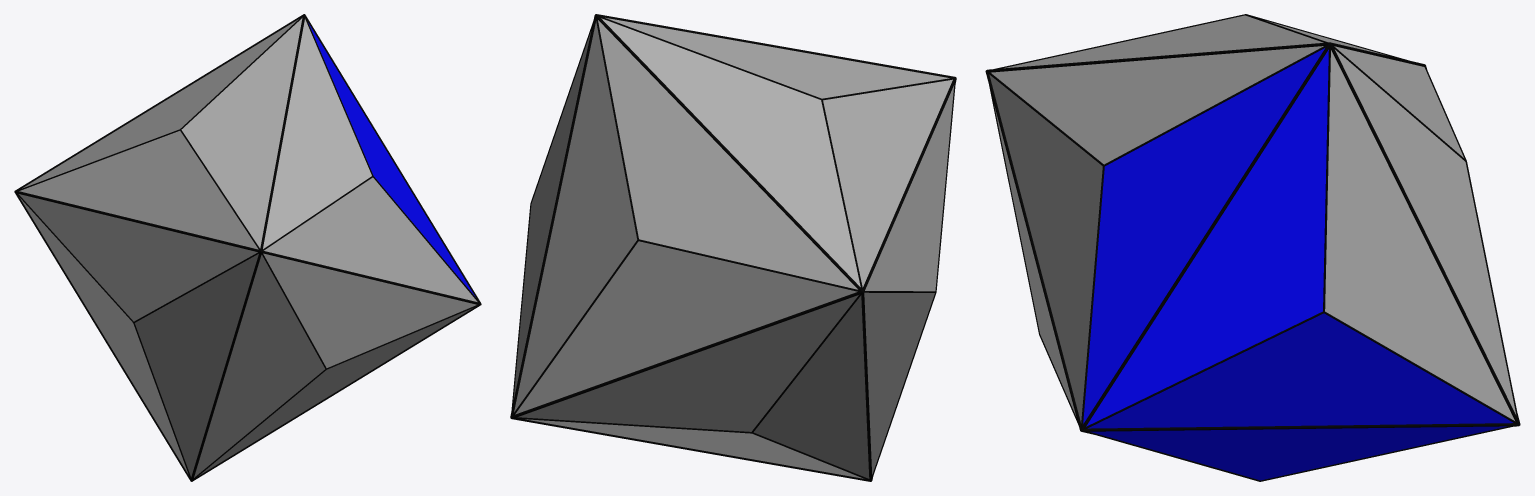
The model's file is TriakisOctahedron2.glb.
3 renders of one model, left to right at view 1: azimuth 30°, elevation 25°; view 2: azimuth 150°, elevation 25°; view 3: azimuth 270°, elevation 25°, orthographic. The views are drawn at different scales.
Bounding box in the file's own units: 3.97 × 4.28 × 3.97.
